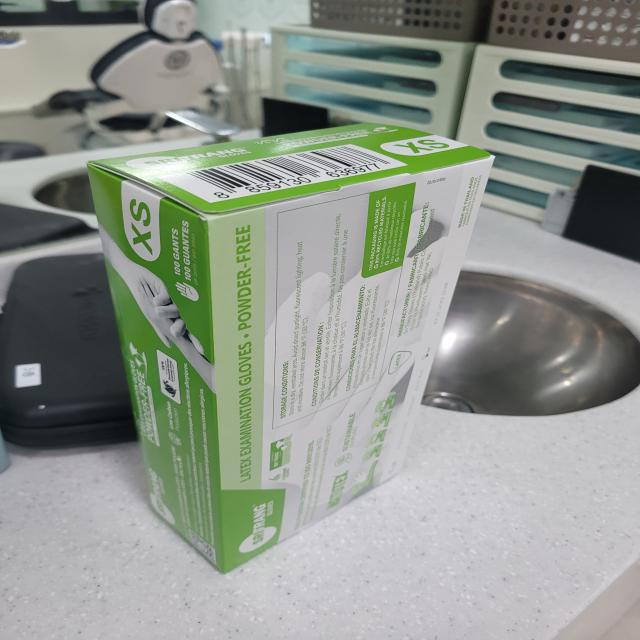glove: (54, 95, 511, 588)
